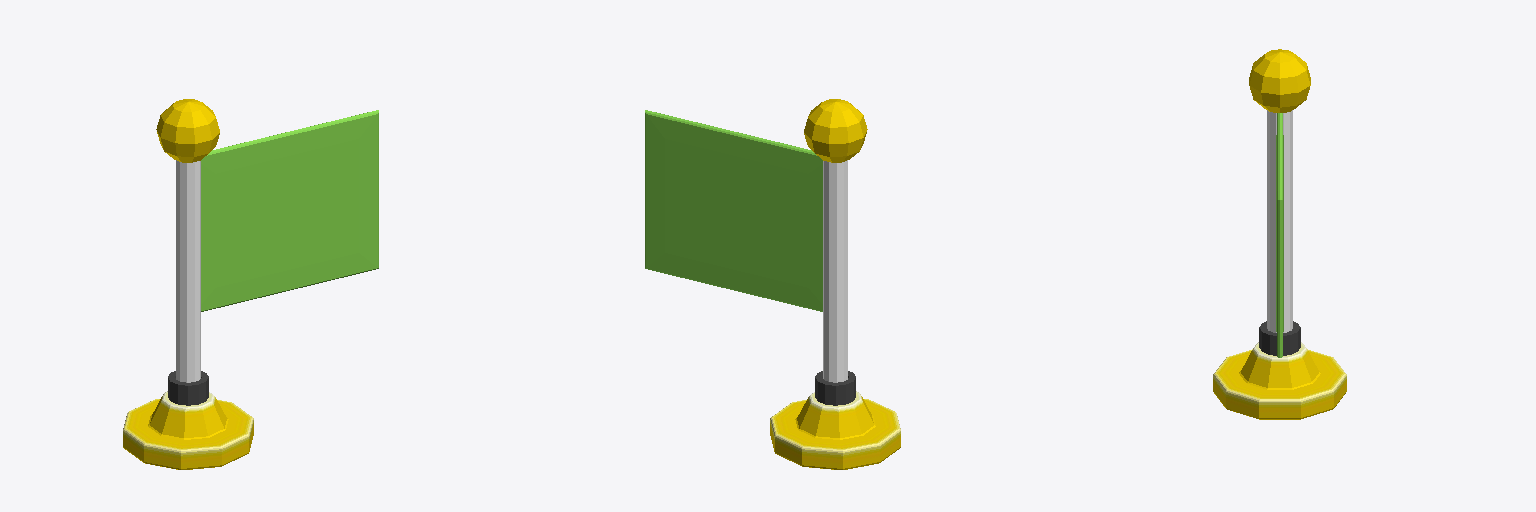
3 renders of one model, left to right at view 1: azimuth 30°, elevation 25°; view 2: azimuth 150°, elevation 25°; view 3: azimuth 270°, elevation 25°, orthographic.
Visible parts, largest first — view 1: pCube1__Mt_Flag, pCylinder1__Mt_Gold, pCylinder2__Mt_Body, pPipe1__Mt_Body; view 2: pCube1__Mt_Flag, pCylinder1__Mt_Gold, pCylinder2__Mt_Body, pPipe1__Mt_Body; view 3: pCylinder1__Mt_Gold, pCylinder2__Mt_Body, pCube1__Mt_Flag, pPipe1__Mt_Body.
Part boxes in pixels (left/top/right/bottom): pCube1__Mt_Flag: left=201, top=110, right=378, bottom=311; pCylinder1__Mt_Gold: left=123, top=99, right=253, bottom=469; pCylinder2__Mt_Body: left=176, top=160, right=200, bottom=382; pPipe1__Mt_Body: left=168, top=371, right=208, bottom=405; pCube1__Mt_Flag: left=645, top=110, right=822, bottom=311; pCylinder1__Mt_Gold: left=770, top=99, right=900, bottom=469; pCylinder2__Mt_Body: left=823, top=160, right=847, bottom=382; pPipe1__Mt_Body: left=815, top=371, right=855, bottom=405; pCylinder1__Mt_Gold: left=1213, top=49, right=1346, bottom=419; pCylinder2__Mt_Body: left=1267, top=110, right=1292, bottom=332; pCube1__Mt_Flag: left=1276, top=113, right=1283, bottom=357; pPipe1__Mt_Body: left=1259, top=321, right=1300, bottom=355.
Size of the model in its own units: 141 by 187 by 66.45.
3 materials, 2 textured.